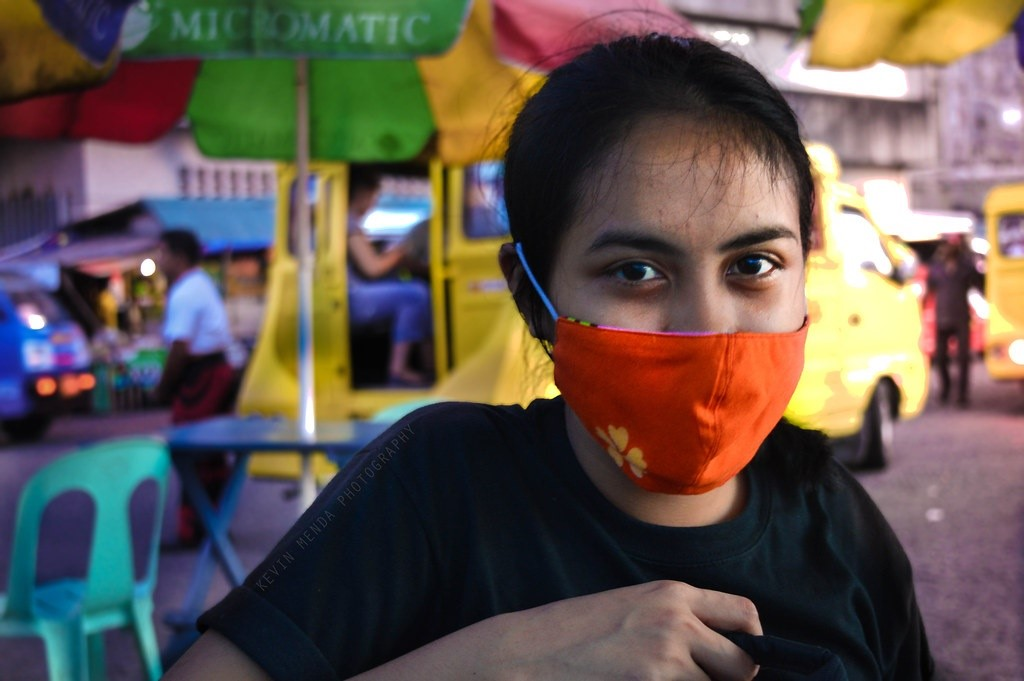face_with_mask: (498, 38, 812, 500)
